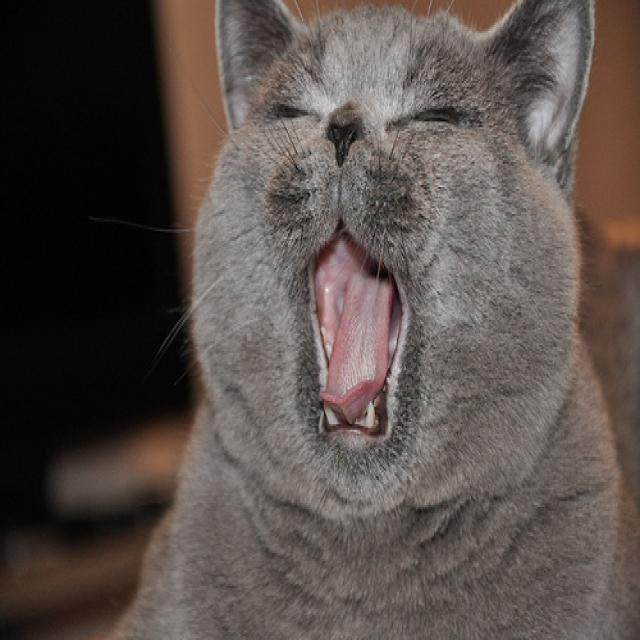British_Shorthair: (193, 0, 592, 499)
